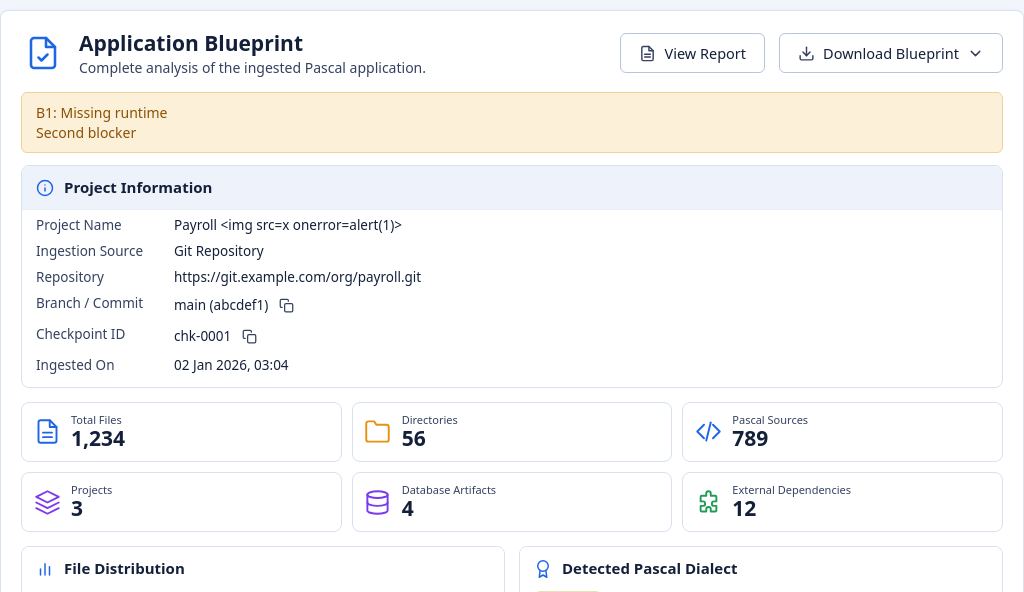
blob downloads › intercepts report and menu clicks only when authed
Click the button "Download Blueprint" at (891, 54), box [779,34,1003,74]
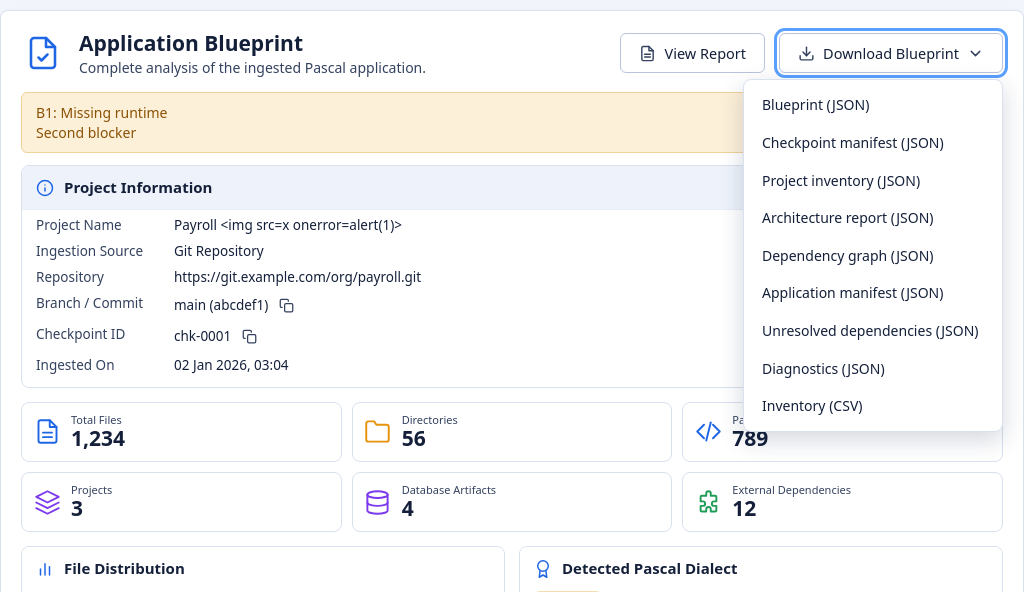
Click the link "Diagnostics (JSON)" at (823, 368), box [762,359,885,378]
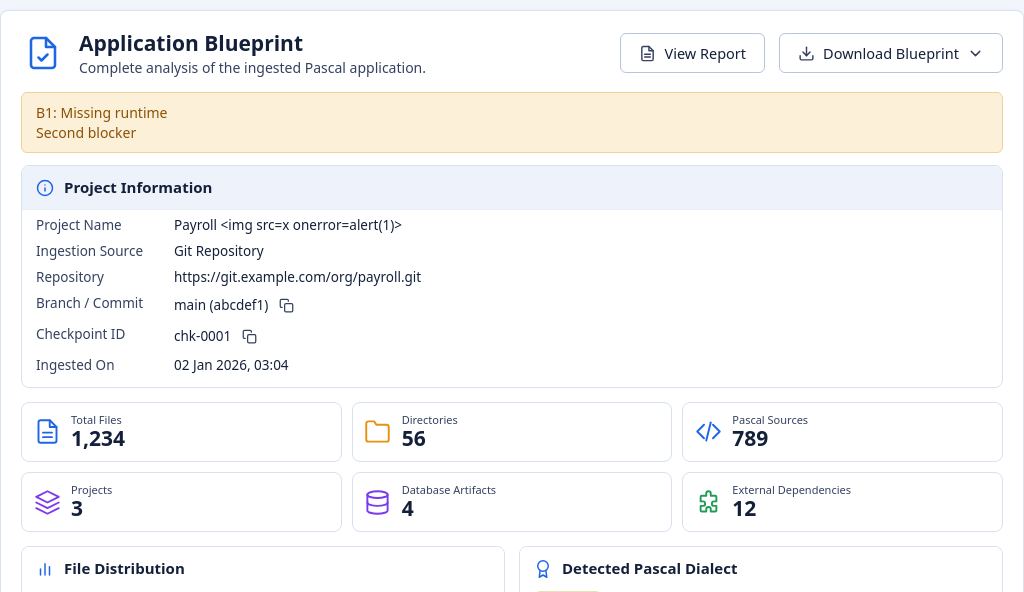
Click the link "View Report" at (693, 54), box [620,34,765,74]
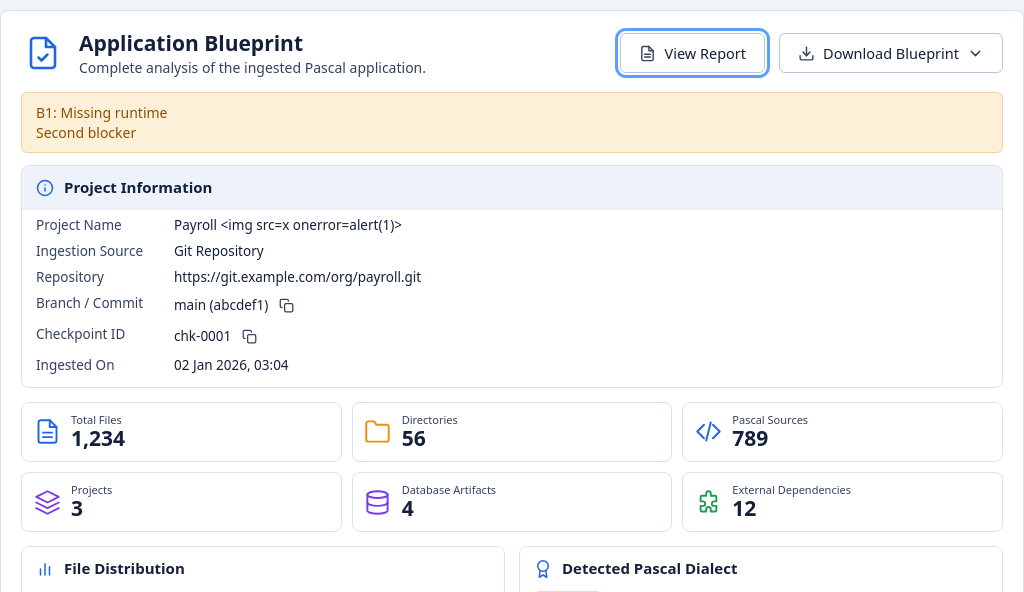
Click the link "View Report" at (693, 54), box [620,34,765,74]
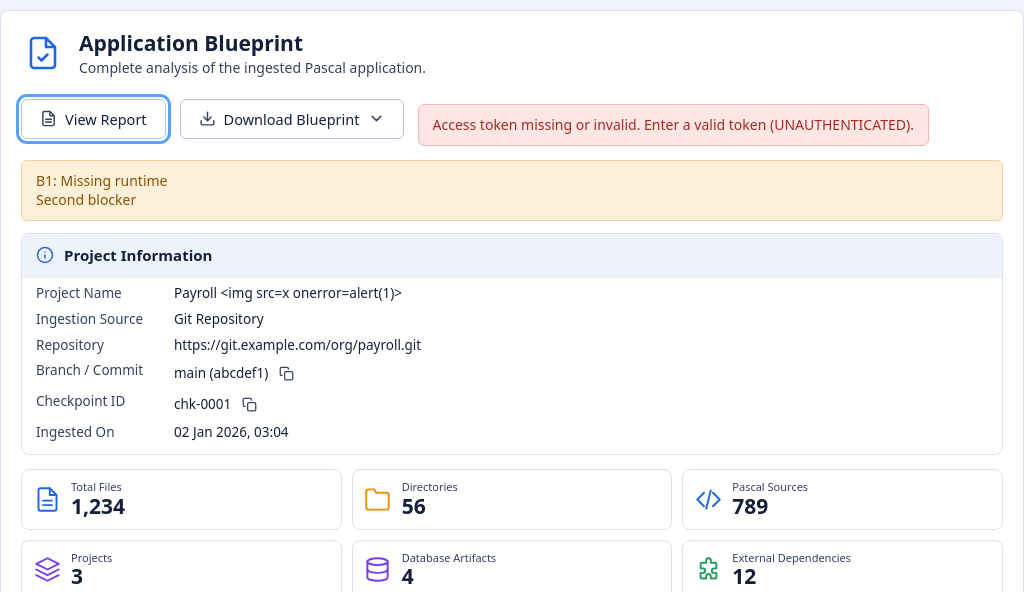
Check: the text "Access token missing or invalid. Enter a valid token (UNAUTHENTICATED)." is shown, box [418,104,929,146]
